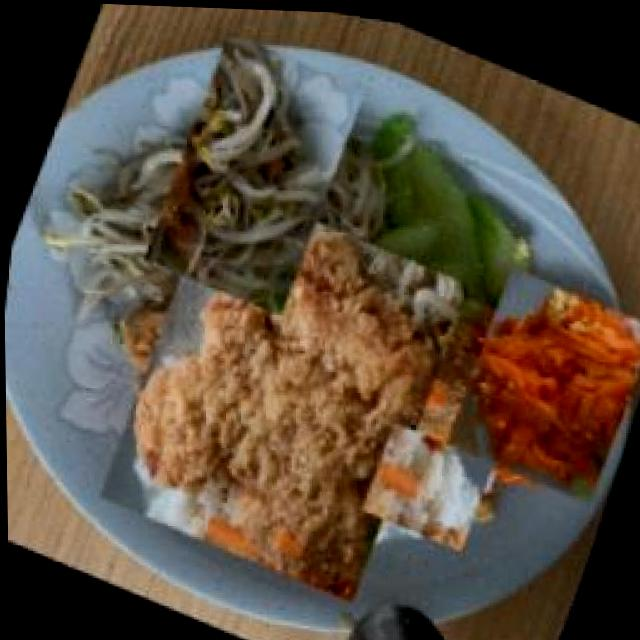carrot_eggs: (433, 250, 640, 504)
fried_chicken: (72, 175, 492, 602)
mung_bean_sprouts: (120, 36, 388, 309)
rice: (355, 412, 494, 554)
